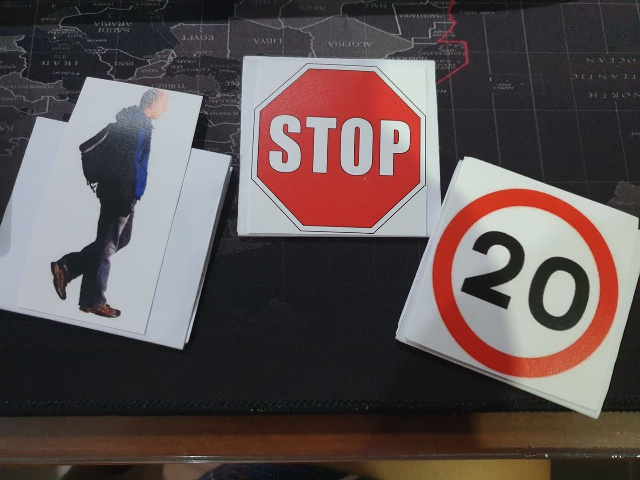Limit 20: (436, 184, 614, 380)
Person: (68, 77, 164, 321)
Stop: (243, 58, 427, 237)
